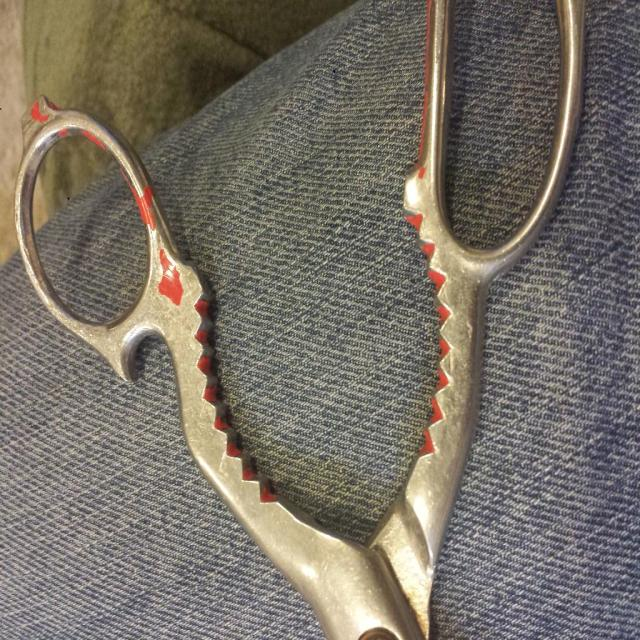scissors: (12, 0, 586, 639)
